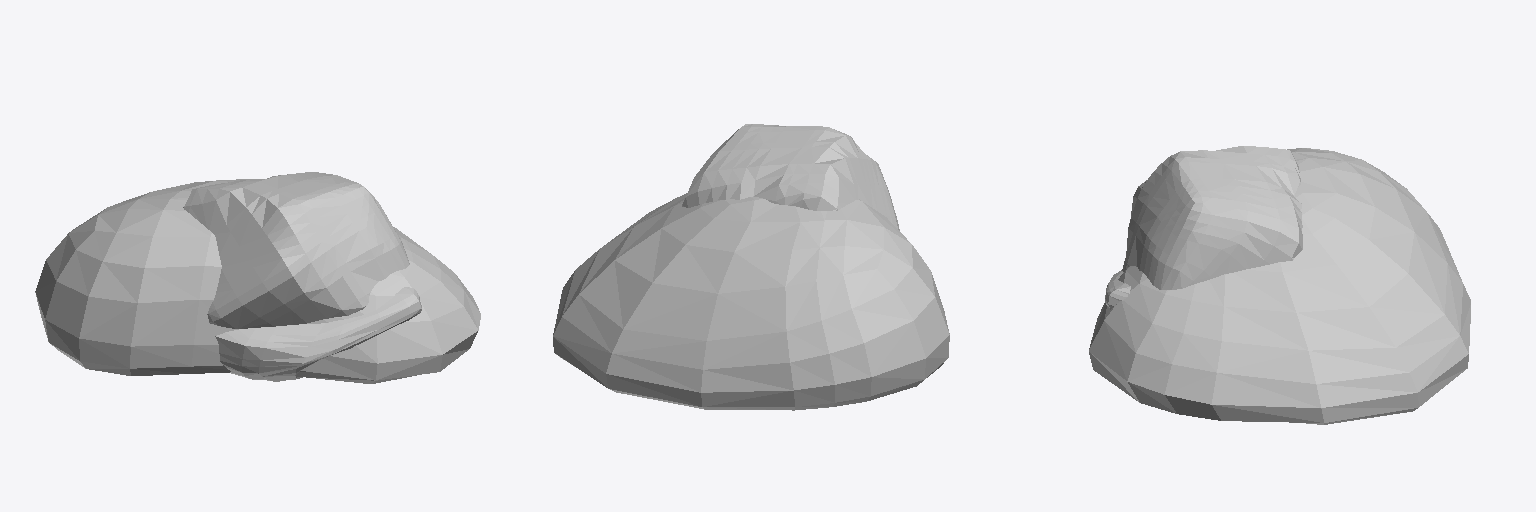
File: rocks.obj
The picture shows the model from 3 angles: view 1: azimuth 30°, elevation 25°; view 2: azimuth 150°, elevation 25°; view 3: azimuth 270°, elevation 25°; orthographic projection.
Parts seen in each view (by area): view 1: large_rock_Mesh.009, small_rock_Mesh.007, medium_rock_Mesh.008; view 2: large_rock_Mesh.009, small_rock_Mesh.007; view 3: large_rock_Mesh.009, small_rock_Mesh.007, medium_rock_Mesh.008.
Boxes of the visible parts, x1,y1,x2,y2 form: large_rock_Mesh.009: [35, 179, 480, 383]; small_rock_Mesh.007: [183, 172, 409, 328]; medium_rock_Mesh.008: [215, 287, 421, 381]; large_rock_Mesh.009: [553, 193, 949, 410]; small_rock_Mesh.007: [682, 124, 899, 230]; large_rock_Mesh.009: [1089, 148, 1470, 424]; small_rock_Mesh.007: [1122, 146, 1302, 289]; medium_rock_Mesh.008: [1105, 270, 1130, 309].
Size of the model in its own units: 0.4745 by 0.2303 by 0.4264.